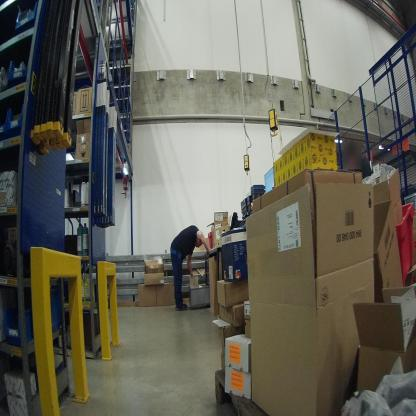pallet: (211, 365, 294, 413)
